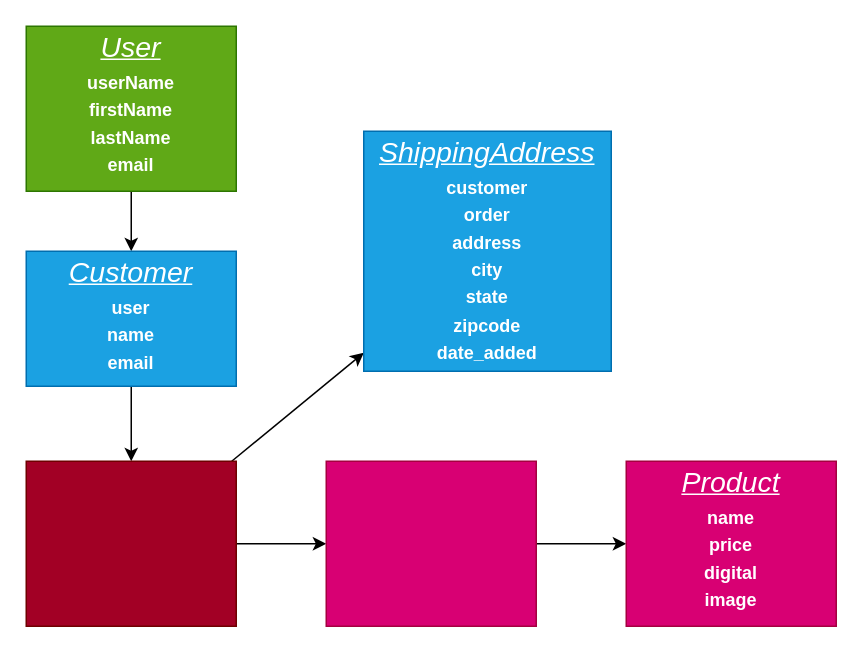
The diagram is 863 pixels wide and 653 high, and some of its shapes have lost their labels. The shapes that lost their labels are listed below. From the top down, each one's box as (x1, y1, x2, y2) in pixels, then its label:
(25, 460, 236, 626): Order customer date_ordered complete transaction_id
(325, 460, 536, 626): OrderItem product order quantity date_added
